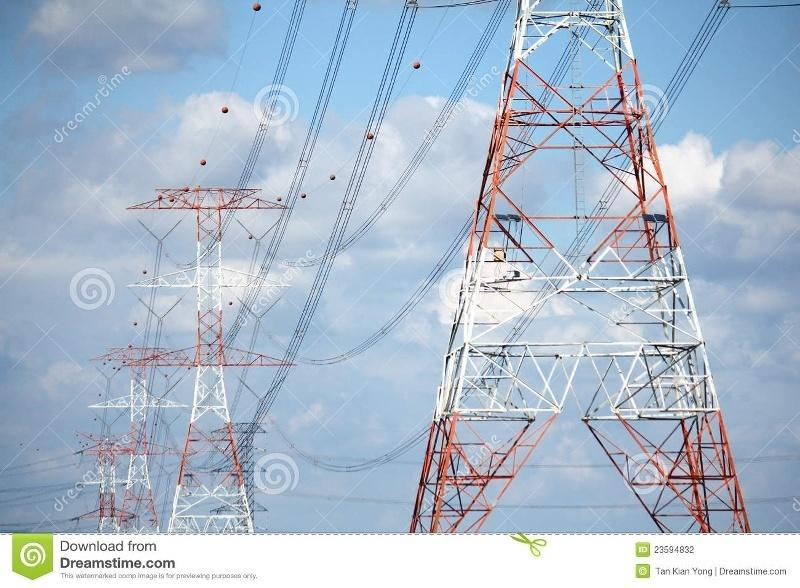power_tower: (445, 13, 734, 498), (154, 183, 285, 518), (101, 342, 187, 539)
